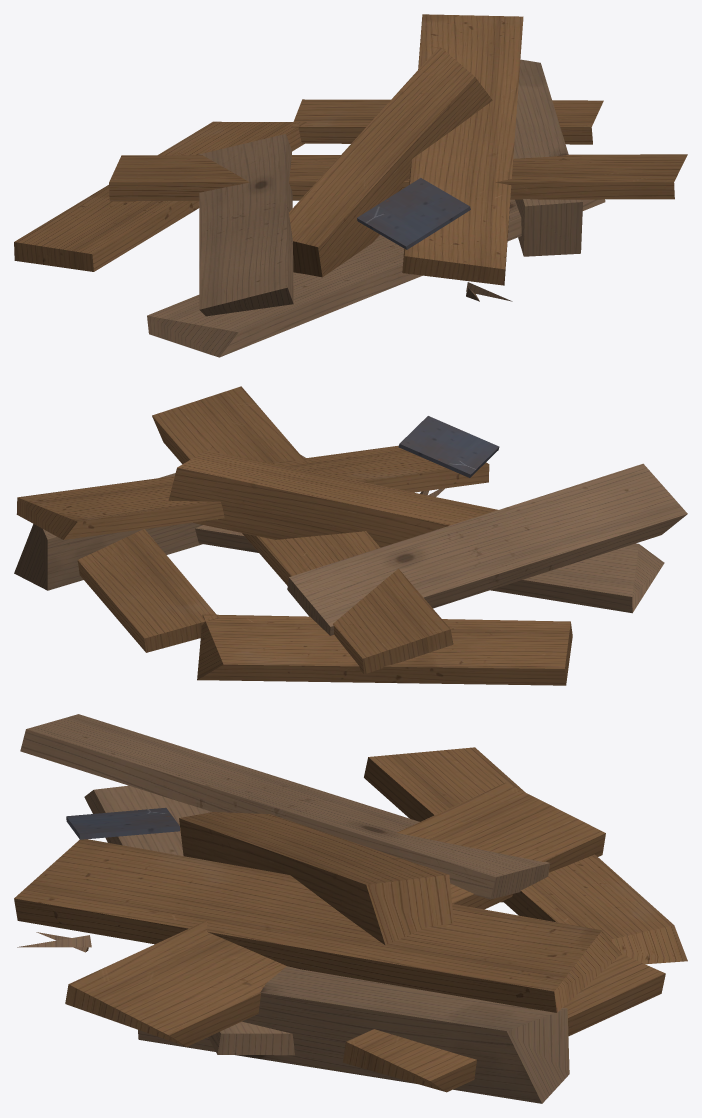
The model's file is Broken_Crate_Debris.glb.
3 renders of one model, top to bottom at view 1: azimuth 30°, elevation 25°; view 2: azimuth 150°, elevation 25°; view 3: azimuth 270°, elevation 25°, orthographic. The views are drawn at different scales.
Parts seen in each view (by area): view 1: Broken_Crate_Debris; view 2: Broken_Crate_Debris; view 3: Broken_Crate_Debris.
Part boxes in pixels (x1=…): Broken_Crate_Debris: x1=14, y1=14, x2=687, y2=357; Broken_Crate_Debris: x1=14, y1=386, x2=687, y2=685; Broken_Crate_Debris: x1=14, y1=714, x2=687, y2=1103.
Size of the model in its own units: 1.24 by 0.2617 by 1.
2 materials, 2 textured.
